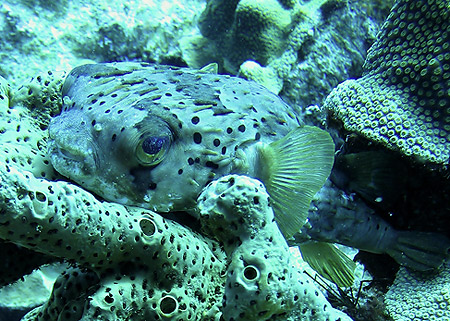Diodon_holocanthus: (51, 51, 407, 260)
